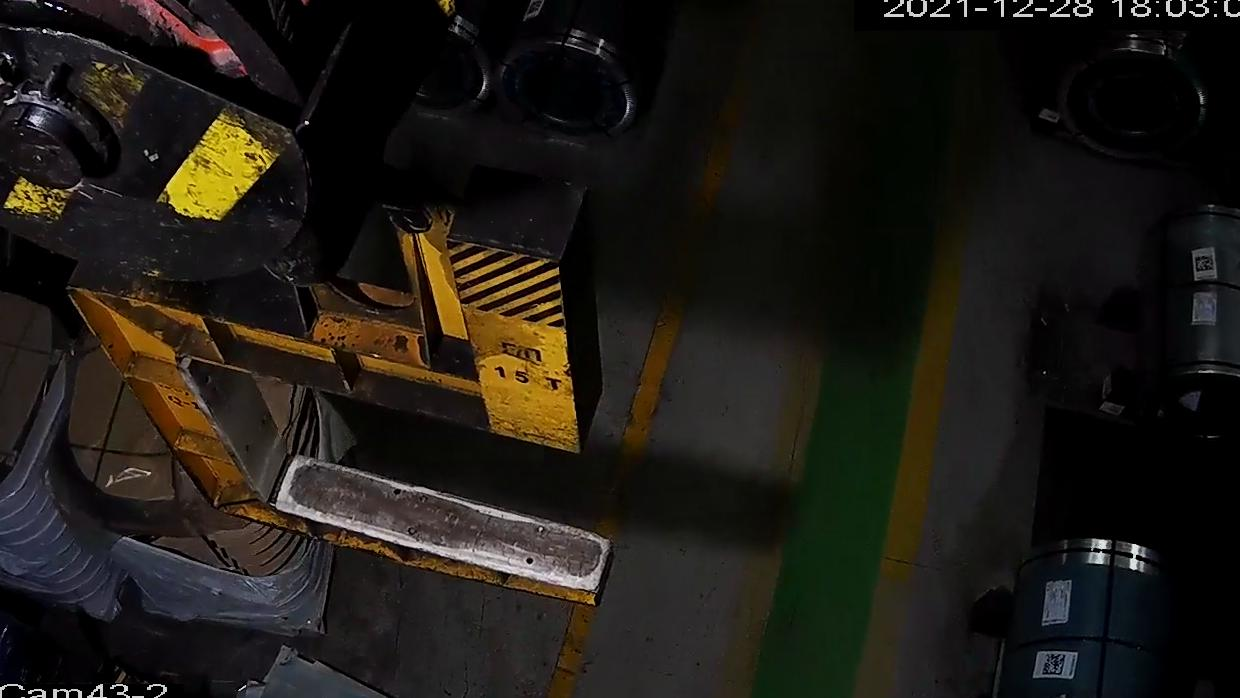data matrix: (1041, 652, 1068, 677), (1195, 254, 1216, 275)
